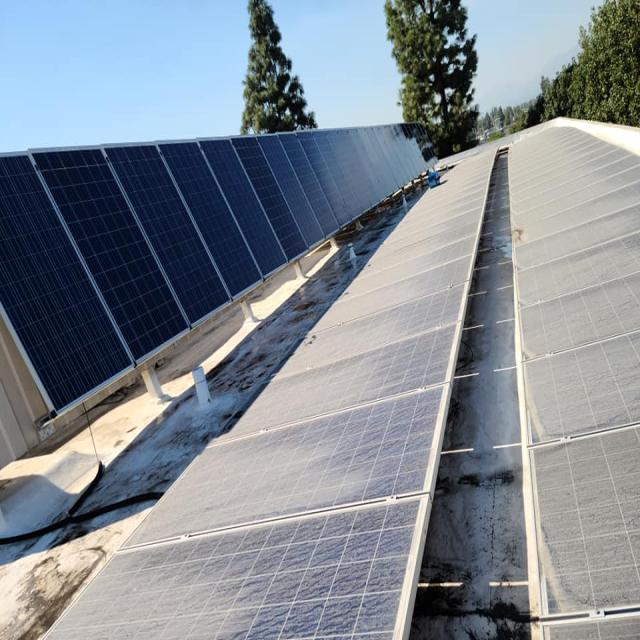dust-solar-panel: (35, 147, 497, 640), (505, 126, 640, 640)
